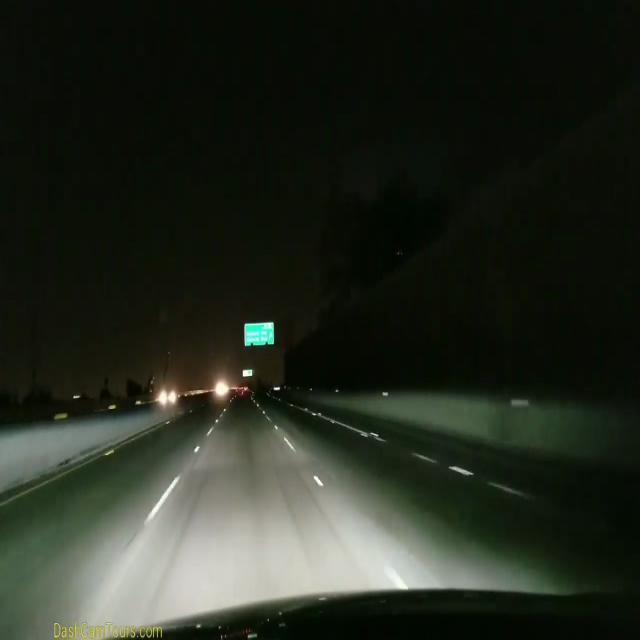street-signs: (244, 321, 275, 346), (242, 370, 252, 378)
